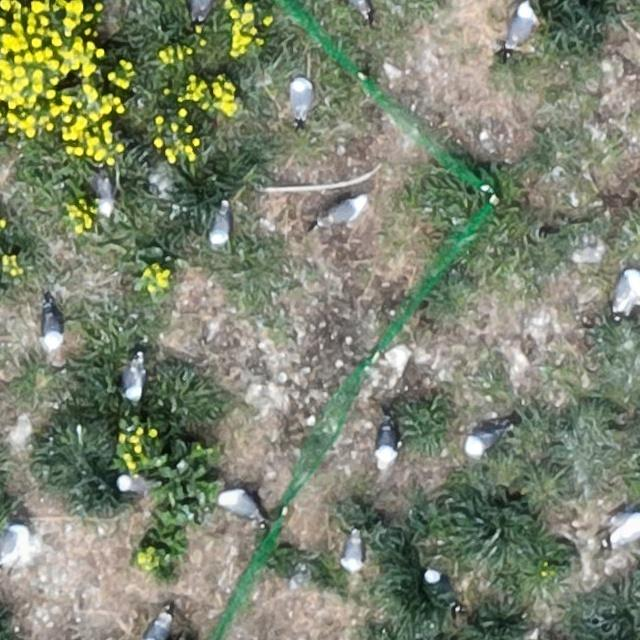umineko: (604, 509, 640, 547), (612, 271, 640, 319), (426, 572, 458, 611), (1, 525, 27, 568), (322, 198, 364, 224), (221, 492, 260, 520), (510, 5, 533, 42), (123, 360, 143, 400), (468, 431, 502, 453), (212, 209, 232, 246), (290, 80, 310, 116), (44, 309, 62, 349), (343, 534, 361, 569), (148, 614, 172, 640), (116, 474, 147, 494), (377, 424, 395, 456), (98, 178, 112, 218), (191, 0, 212, 21), (352, 1, 371, 18)
